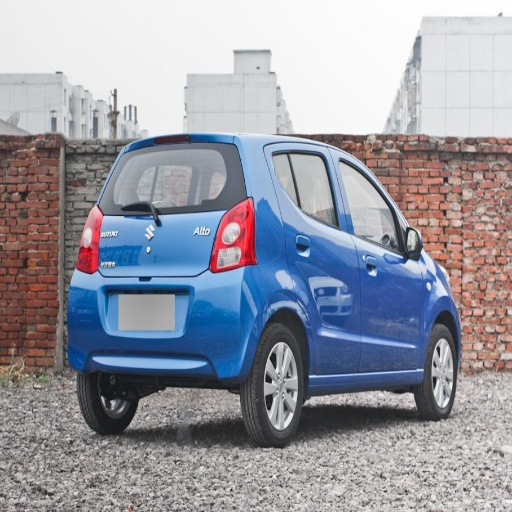back_bumper: (63, 266, 263, 385)
back_right_door: (269, 148, 360, 374)
trunk: (77, 213, 224, 342)
